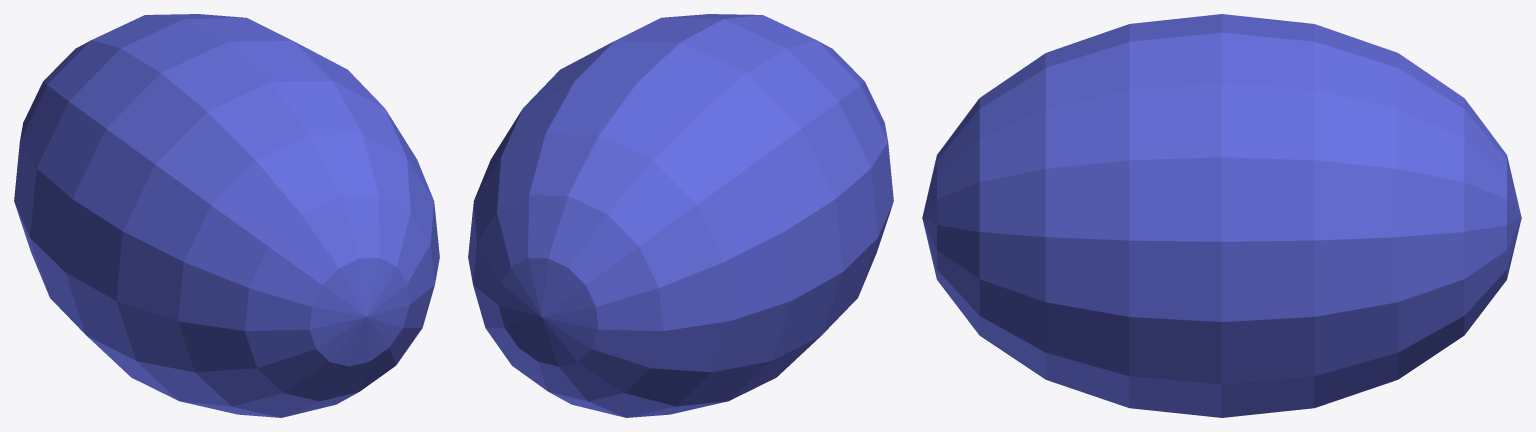
Rendered from T_egg1.fbx.
3 views of the same model, side by side, from view 1: azimuth 30°, elevation 25°; view 2: azimuth 150°, elevation 25°; view 3: azimuth 270°, elevation 25° (orthographic). The views are drawn at different scales.
Parts seen in each view (by area): view 1: Sphere.001; view 2: Sphere.001; view 3: Sphere.001.
Boxes of the visible parts, bbox=[...] form: Sphere.001: bbox=[14, 14, 439, 417]; Sphere.001: bbox=[468, 14, 893, 417]; Sphere.001: bbox=[922, 14, 1521, 417].
Bounding box in the file's own units: 196 × 198 × 294.
